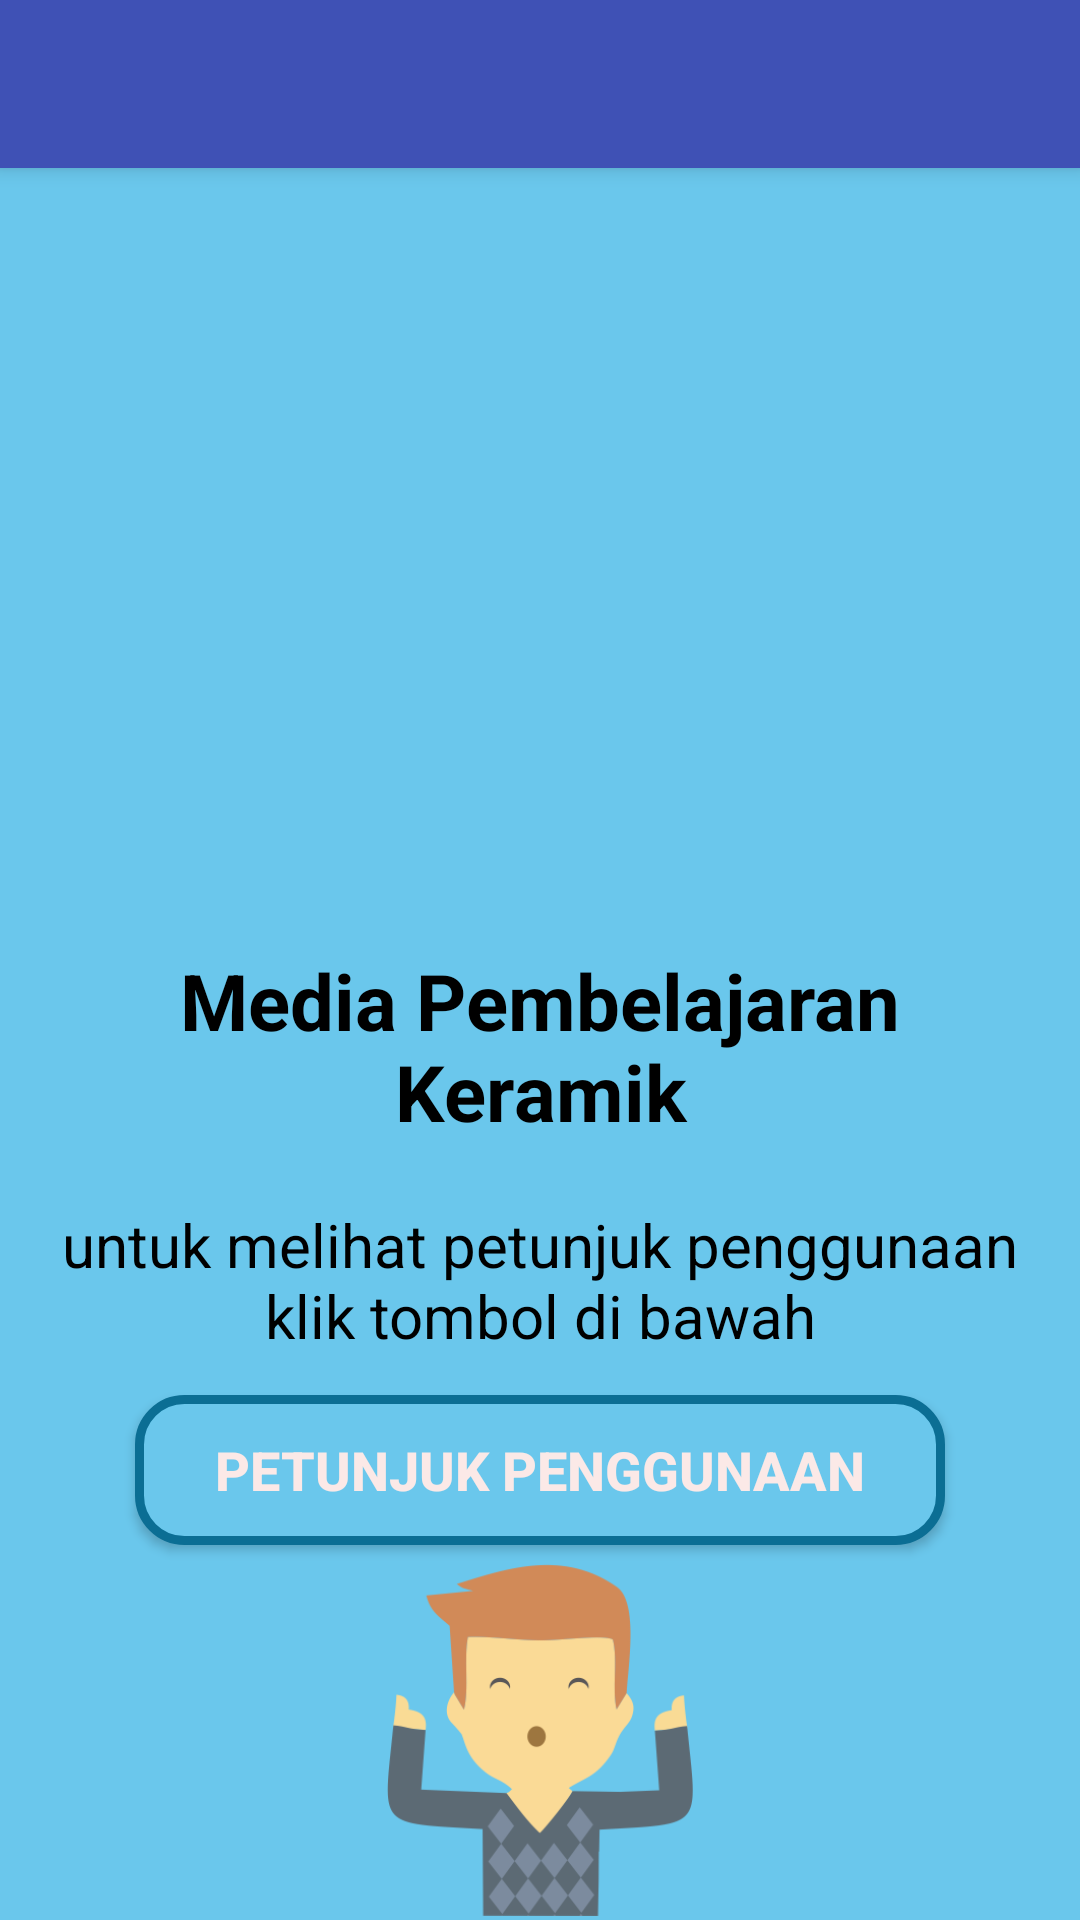

Locate icon controls on the screen. Image size 1080x1920, boxes as (x1, y1, x2, y2).
mascot: (387, 1565, 693, 1916)
